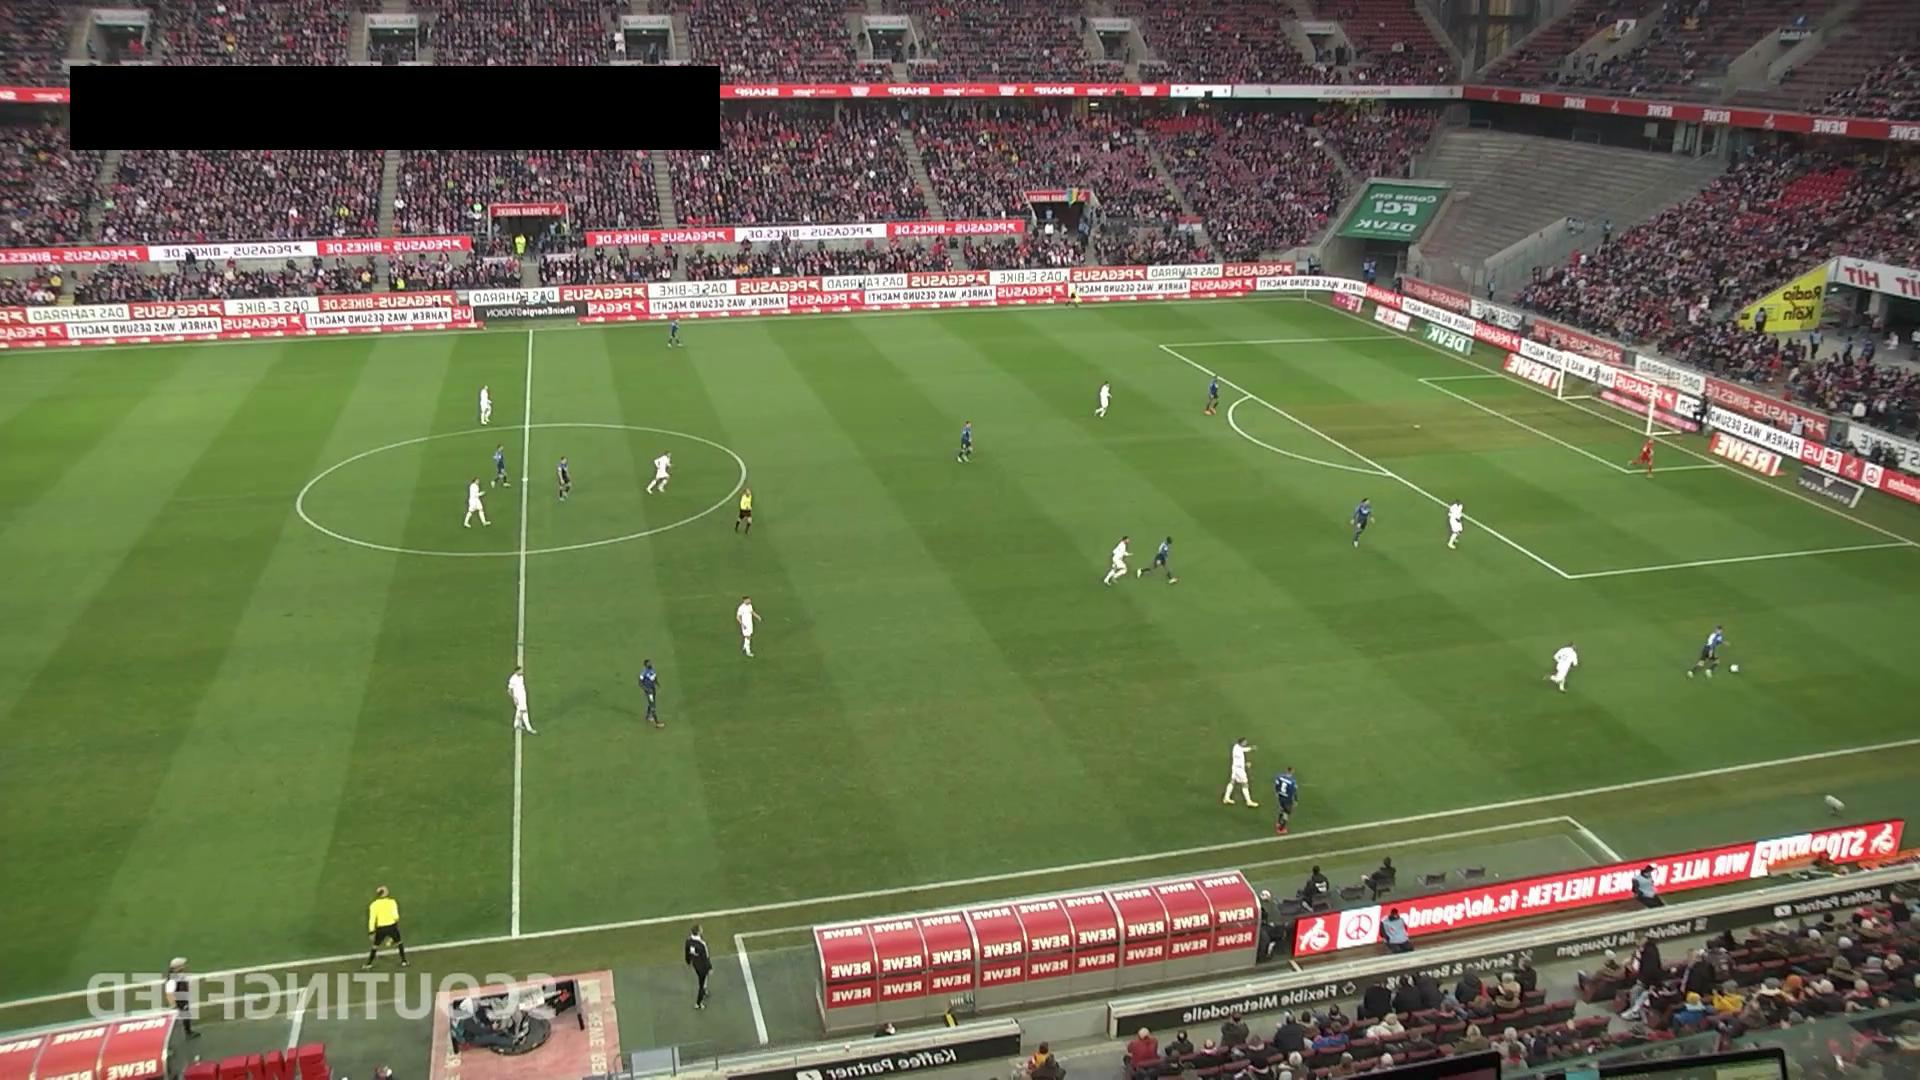ball: (1730, 663, 1740, 674)
goalkeeper: (1626, 437, 1655, 480)
player: (1222, 736, 1260, 807), (1685, 623, 1728, 680), (507, 665, 539, 736), (1138, 535, 1179, 584), (1544, 640, 1579, 692), (638, 658, 664, 727), (736, 595, 764, 658), (1274, 764, 1299, 834), (1103, 534, 1133, 586), (463, 476, 490, 527), (1350, 496, 1374, 549), (646, 451, 673, 494), (1446, 499, 1464, 549), (492, 443, 511, 487), (555, 455, 571, 499), (957, 420, 973, 463), (1094, 380, 1111, 418), (1204, 376, 1220, 415), (479, 385, 493, 425), (667, 318, 682, 347)
referee: (363, 885, 410, 969), (734, 485, 753, 536), (1067, 282, 1083, 310)
